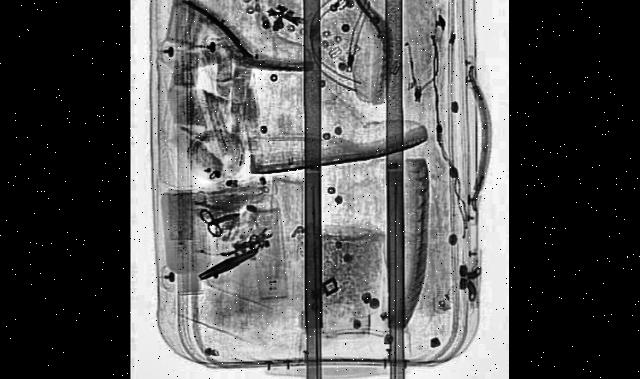Scissors: (198, 197, 240, 242)
